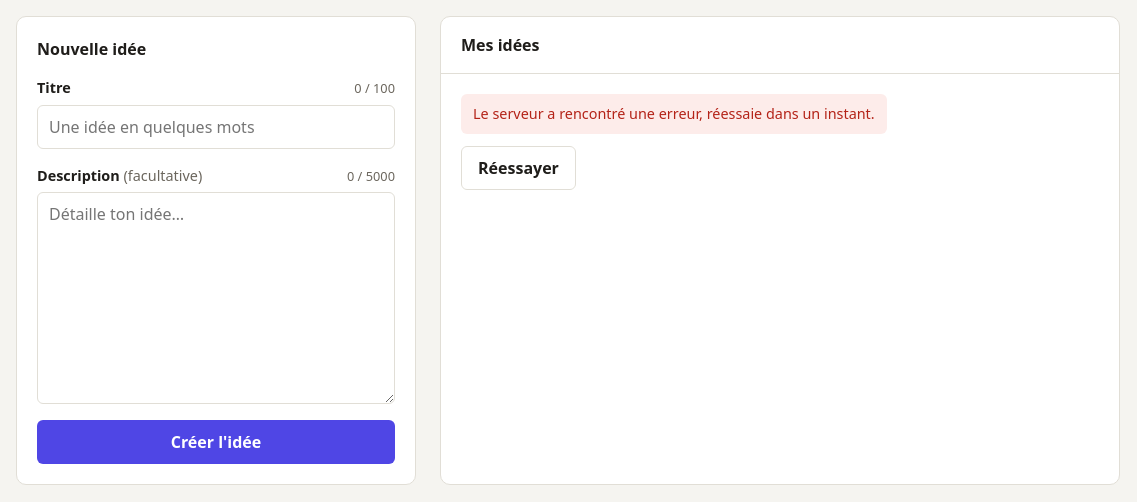
NotesPage › hides the note count and offers to retry when the notes cannot be loaded
The width and height of the screenshot is (1137, 502).
Expected: the message "Le serveur a rencontré une erreur, réessaie dans un instant." is shown, 461,94 -> 887,134
Expected: the header reads "Mes idées", 461,34 -> 540,56
Click the button "Réessayer". click: (518, 168)
box: 461,146 -> 576,190
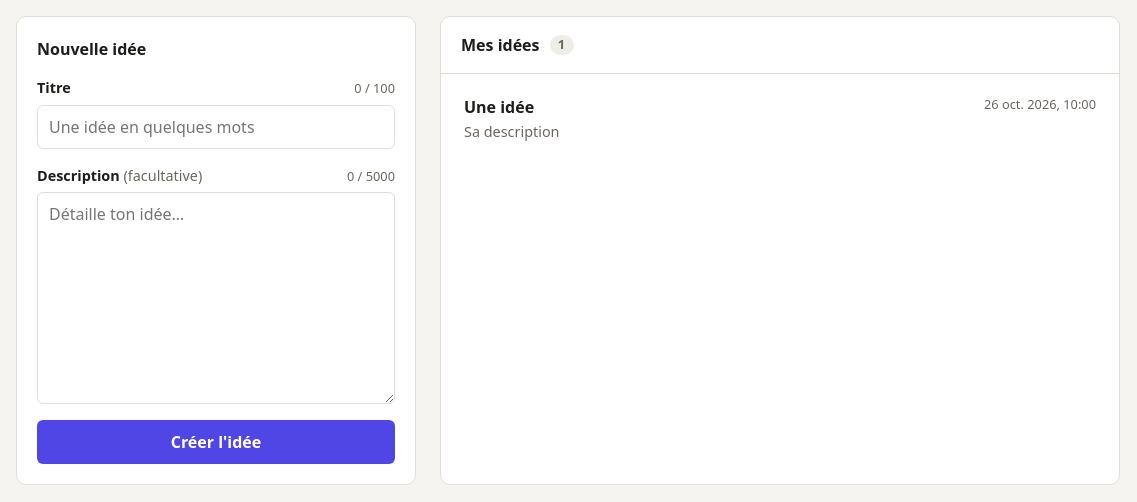
Expected: the text "Une idée" is shown, 464,96 -> 534,118
